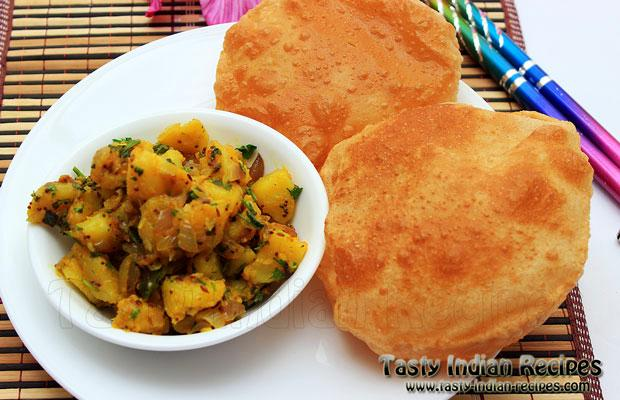puri: (297, 115, 585, 349)
